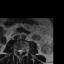CCS_normal: (19, 47, 21, 56)
LFS_normal: (23, 48, 25, 53)
LLS_normal: (21, 48, 23, 54)
RFS_stenosis: (16, 47, 18, 53)
RLS_normal: (18, 48, 19, 54)
